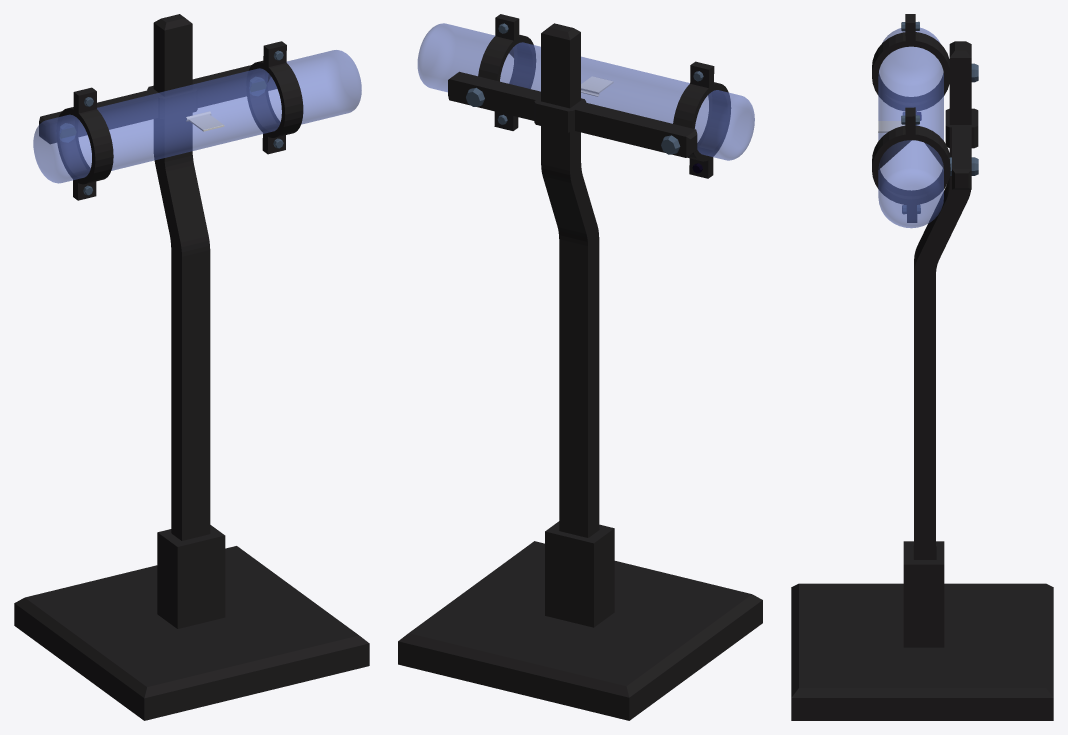
Rendered from generator.fbx.
3 views of the same model, side by side, from view 1: azimuth 30°, elevation 25°; view 2: azimuth 150°, elevation 25°; view 3: azimuth 270°, elevation 25° (orthographic). The views are drawn at different scales.
Visible parts, largest first — view 1: Cube.003, Cylinder, Cylinder.005, Cylinder.001; view 2: Cube.003, Cylinder, Cylinder.001, Cylinder.005; view 3: Cube.003, Cylinder, Cylinder.005, Cylinder.001.
Boxes of the visible parts, x1,y1,x2,y2 form: Cube.003: [14, 14, 369, 720]; Cylinder: [33, 50, 361, 183]; Cylinder.005: [246, 41, 303, 154]; Cylinder.001: [56, 87, 113, 200]; Cube.003: [398, 23, 762, 720]; Cylinder: [417, 23, 754, 160]; Cylinder.001: [673, 61, 730, 178]; Cylinder.005: [478, 14, 535, 130]; Cube.003: [791, 41, 1053, 720]; Cylinder: [878, 27, 943, 228]; Cylinder.005: [872, 107, 950, 222]; Cylinder.001: [872, 14, 949, 125].
Bounding box in the file's own units: 109 × 208 × 80.
